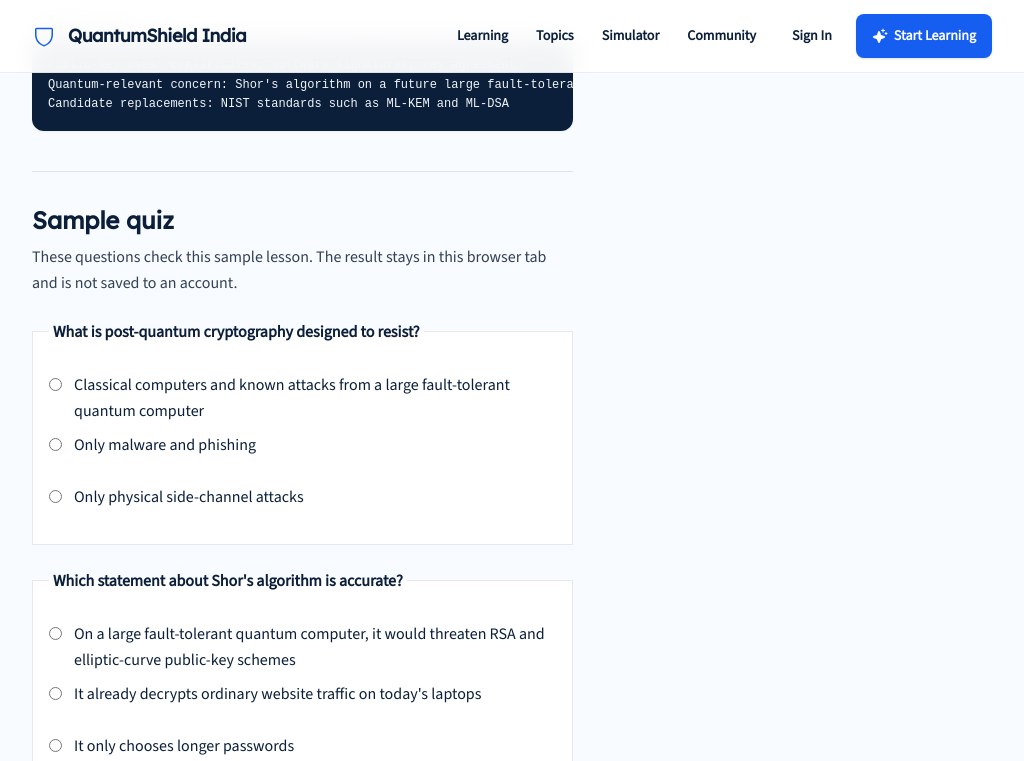
Scenario: learning pages › reads a lesson, moves to the next one, and explains quiz answers
The image size is (1024, 761).
(page scrolled)
Expected: the text "educational concept · not a live tool" is not shown
What coordinates should you click on to do the following:
click the radio button named "Classical computers and known attacks from a large fault-tolerant quantum computer"
I would click on:
 (56, 384)
Its box is [49,378,62,390].
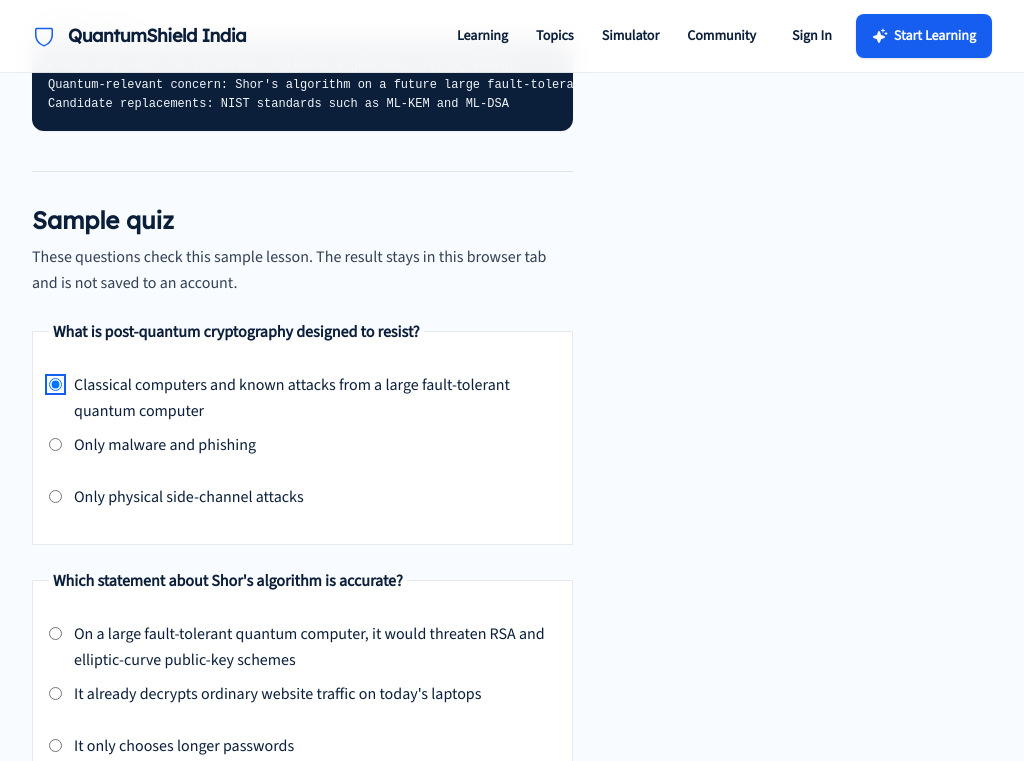
What coordinates should you click on to do the following:
click the radio button named "On a large fault-tolerant quantum computer, it would threaten RSA and elliptic-curve public-key schemes"
I would click on:
 (56, 633)
Its box is [49,626,62,640].
(page scrolled)
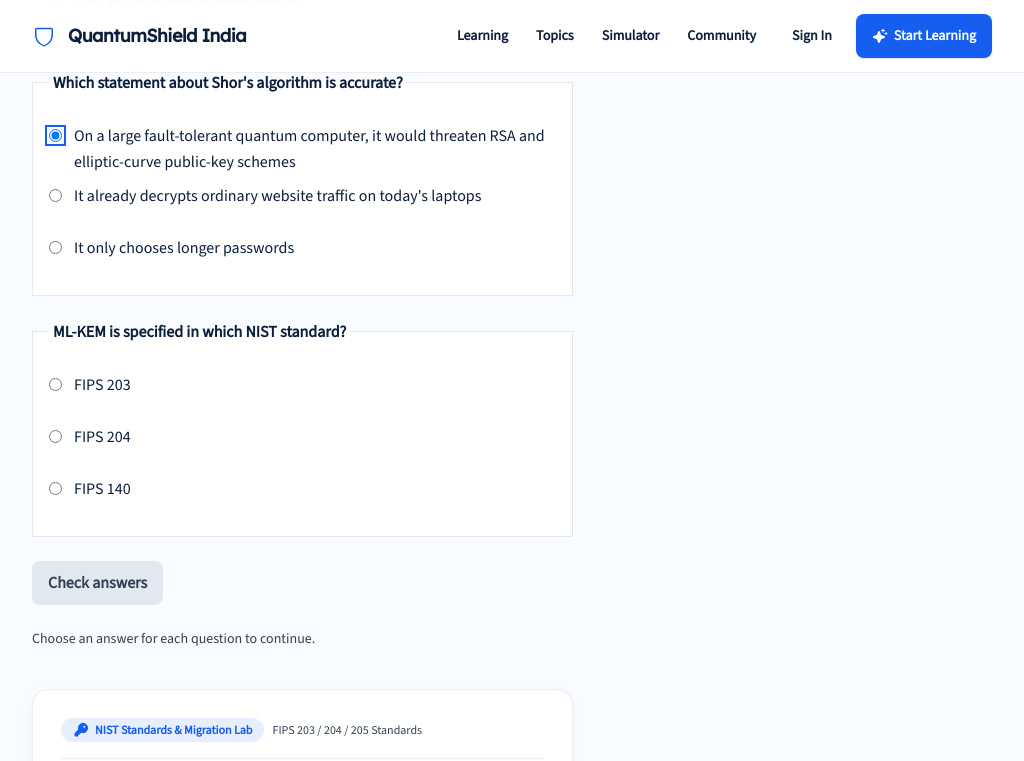
What coordinates should you click on to do the following:
click the radio button labelled "FIPS 203"
I would click on:
 (56, 384)
Its box is [49,378,62,390].
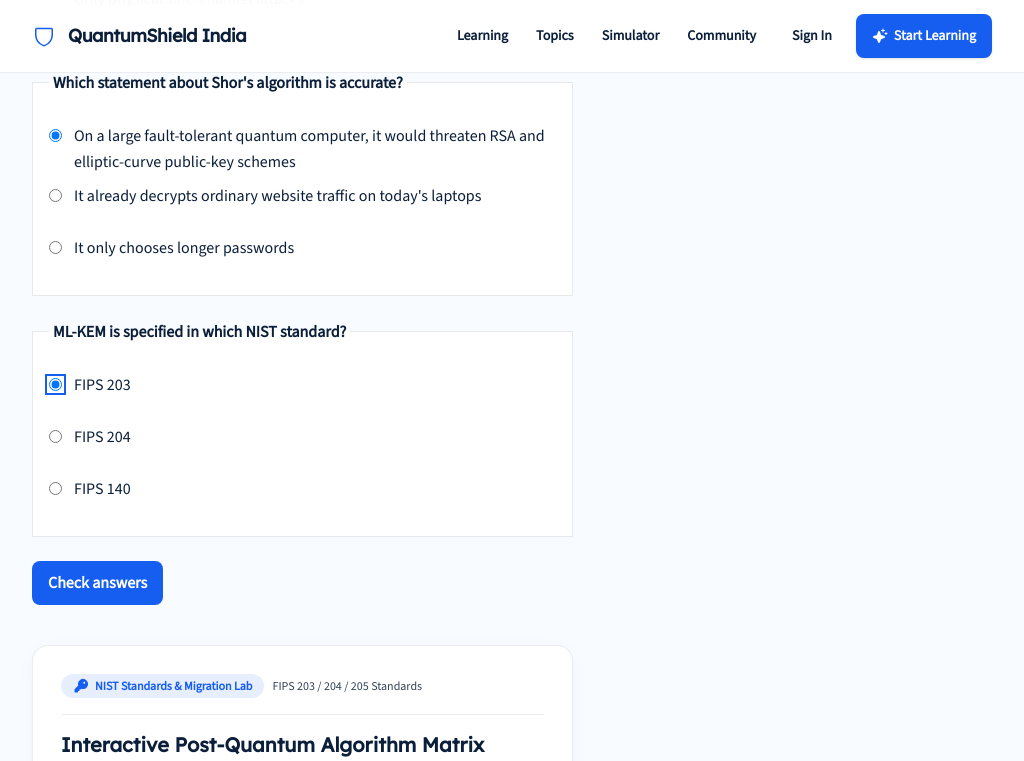
What coordinates should you click on to do the following:
click the button "Check answers"
I would click on:
 (98, 582)
Its box is [32,560,163,604].
(page scrolled)
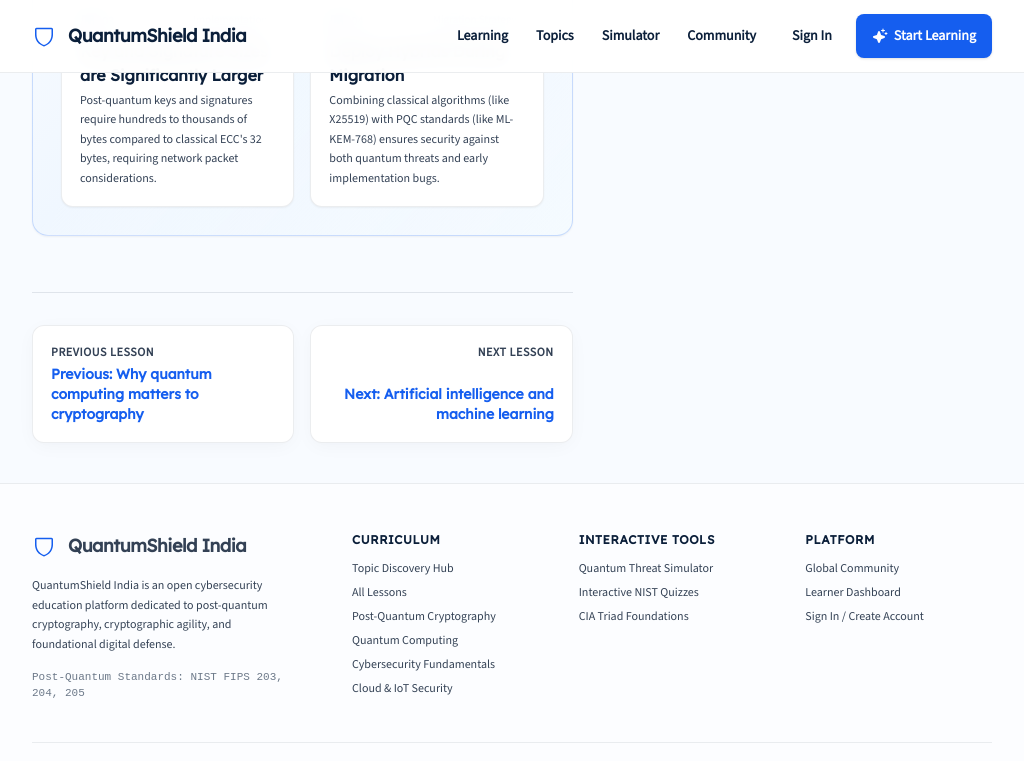
What coordinates should you click on to do the following:
click the link "Previous: Why quantum computing matters"
I would click on:
 (163, 384)
Its box is [32,325,294,443].
(page scrolled)
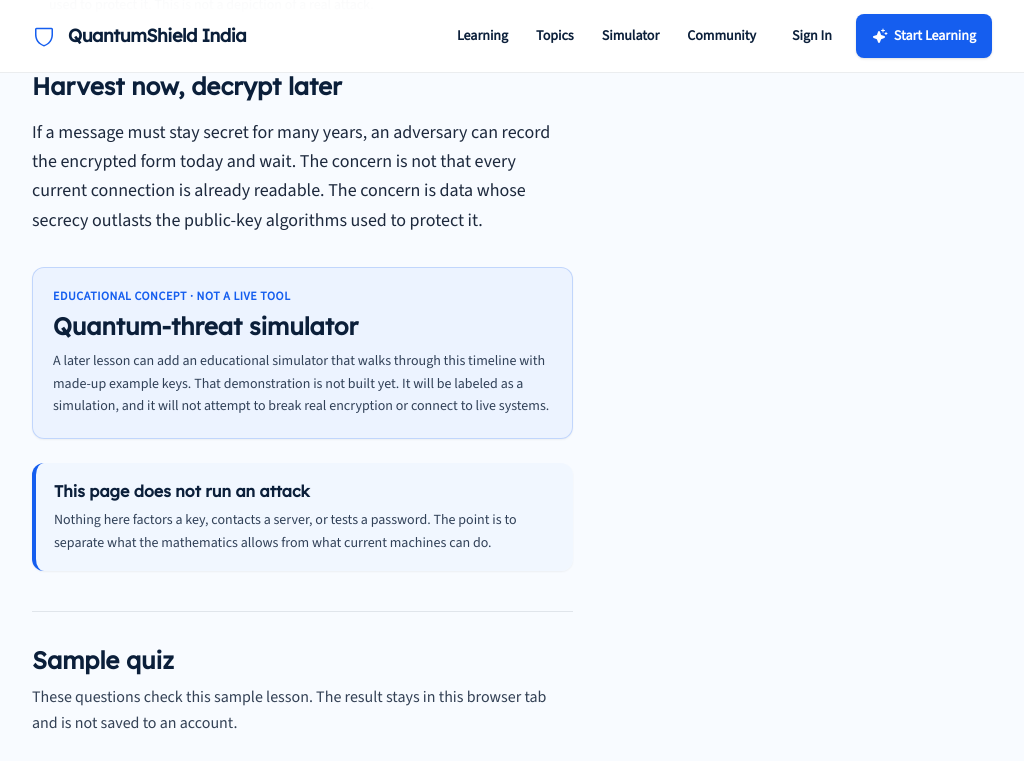
Expected: the heading "Quantum-threat simulator" is shown, [53,311,358,341]
Expected: the text "will not attempt to break real encryption" is shown, [53,351,549,415]
